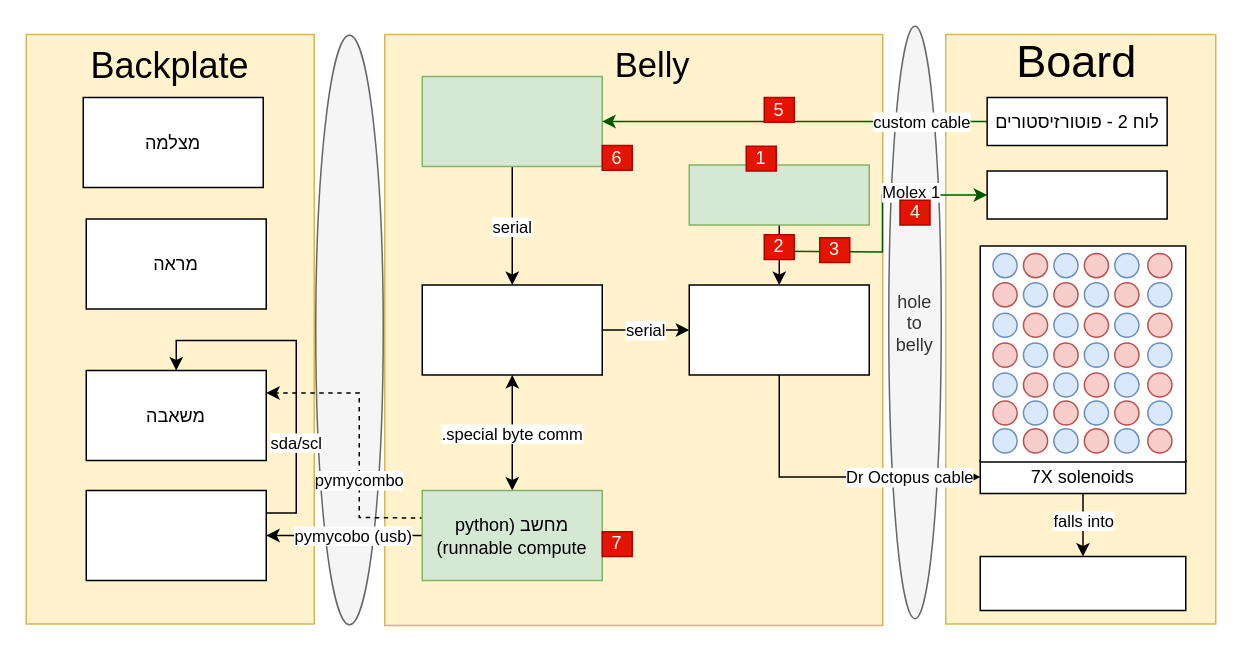
Image size: 1242x663. Some labels were removed from this diagram. The centre of each missing label's shape, as x and y in pixels:
"12V Power Supply + splitter" belongs at point 778,194.
"back plate gap to belly" belongs at point 348,329.
"puck holder and sorter" belongs at point 1082,582.
"shift register piso + potentionmeters 7X (1-30kohm) + 7x1kohm safety" belongs at point 511,120.
"water drop screen board (sipo)" belongs at point 778,329.
"ארדואינו" belongs at point 511,329.
"לוח -1- לדים" belongs at point 1076,194.
"רובוט יש בו ESP" belongs at point 175,534.
